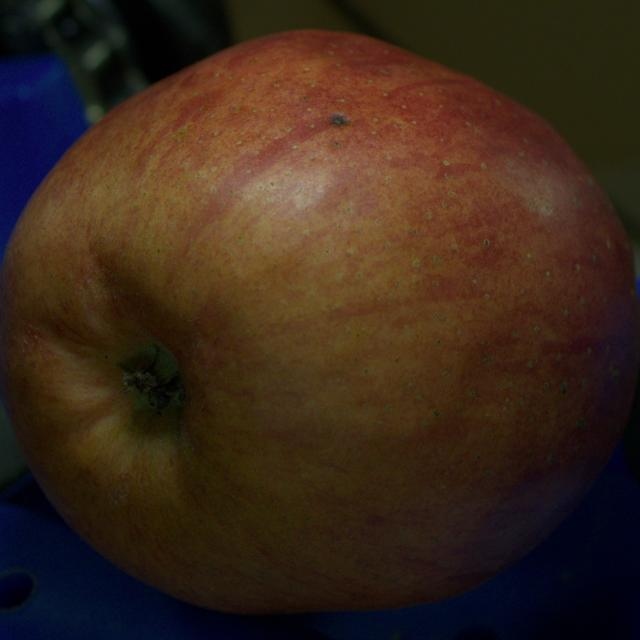apple: (0, 31, 639, 614)
bruise: (457, 462, 591, 578)
pest: (330, 113, 349, 126)
